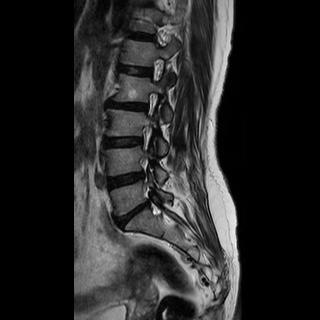RFS0: (133, 120, 157, 157), (138, 86, 162, 119), (145, 54, 168, 87)
